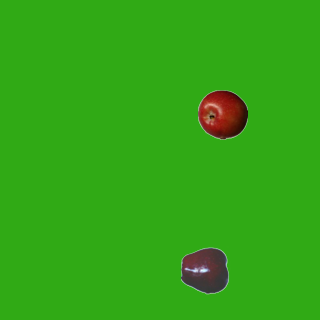Apple Braeburn: (197, 89, 247, 139)
Apple Red Delicious: (180, 245, 230, 295)
